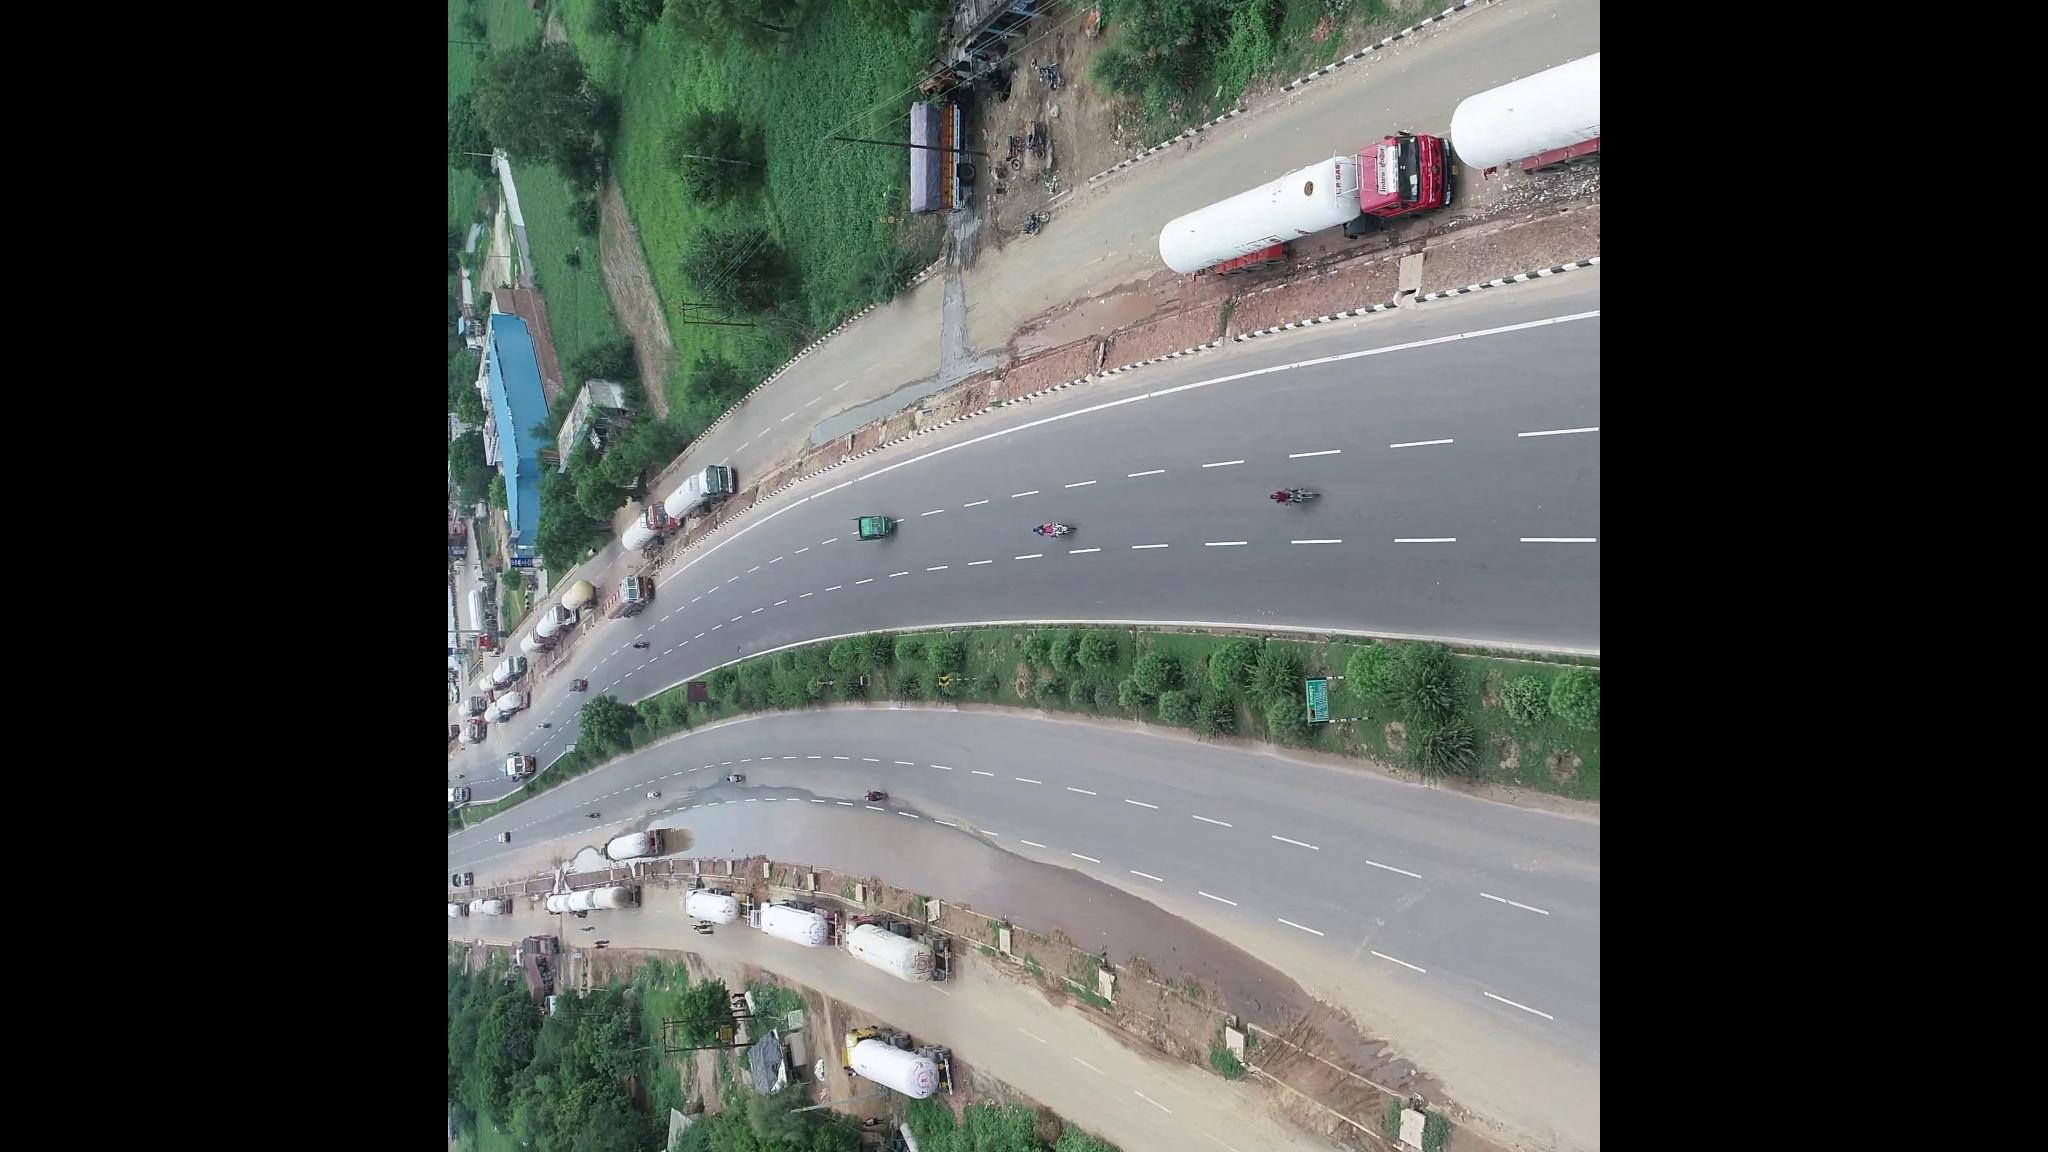Waterlogging: (755, 798, 1048, 911), (814, 381, 902, 442), (674, 803, 769, 855)
